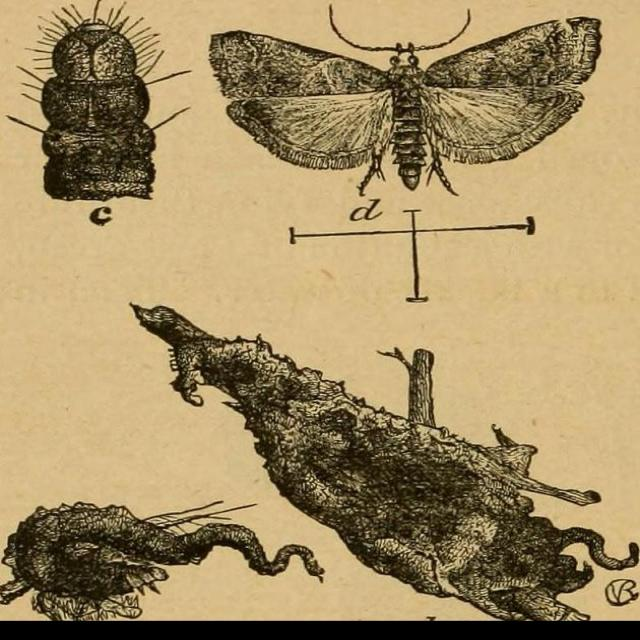armyworm: (202, 16, 621, 173), (30, 19, 172, 200)
